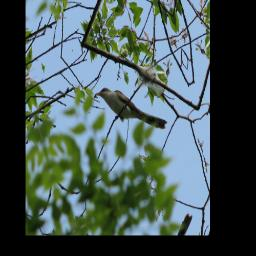Cuckoo: (94, 59, 168, 158)
